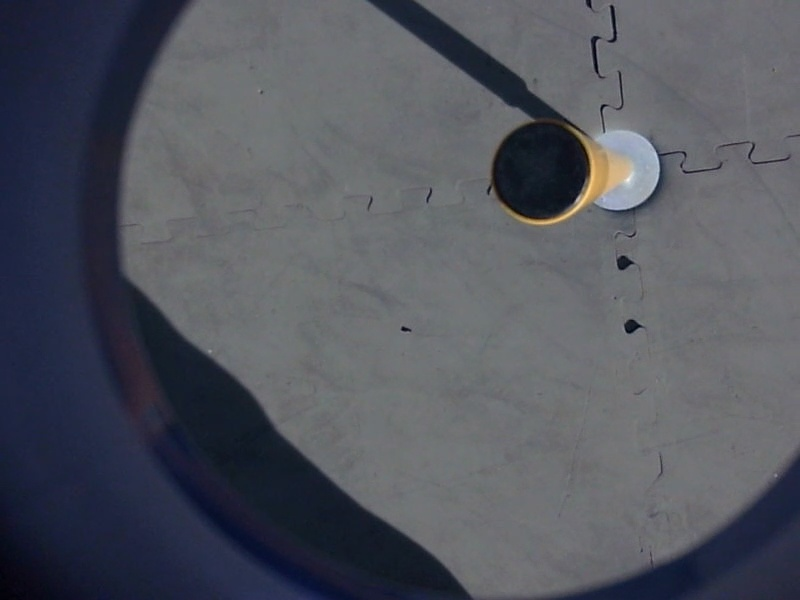tip: (486, 114, 603, 232)
